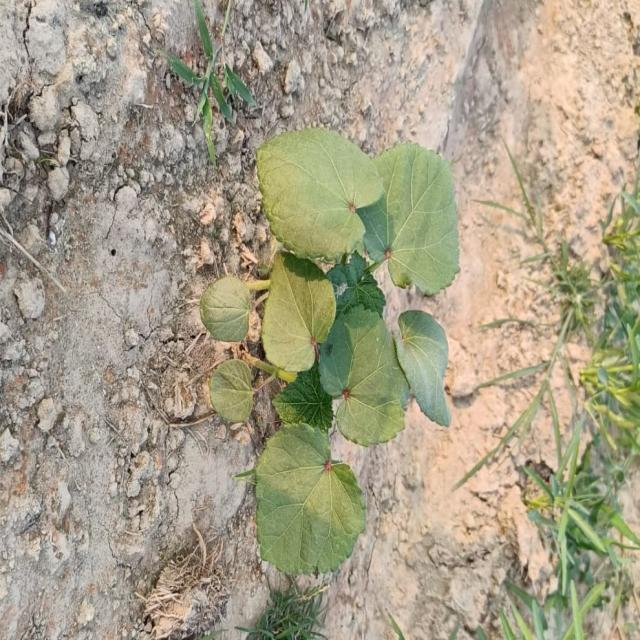plant: (201, 128, 459, 572)
